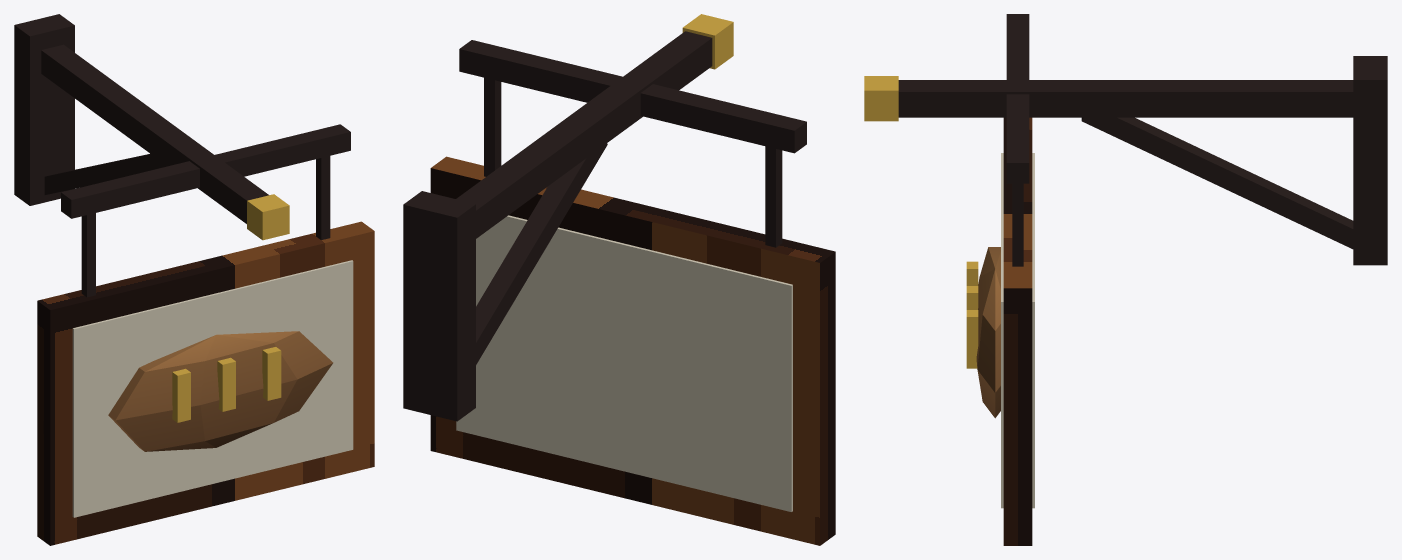
Rendered from hanging_sign_loaf.glb.
3 renders of one model, left to right at view 1: azimuth 30°, elevation 25°; view 2: azimuth 150°, elevation 25°; view 3: azimuth 270°, elevation 25°, orthographic. The views are drawn at different scales.
Visible parts, largest first — view 1: hanging_sign_loaf; view 2: hanging_sign_loaf; view 3: hanging_sign_loaf.
Boxes of the visible parts, x1,y1,x2,y2 form: hanging_sign_loaf: (14, 14, 374, 545); hanging_sign_loaf: (403, 14, 835, 545); hanging_sign_loaf: (864, 14, 1387, 545).
Size of the model in its own units: 0.72 by 0.76 by 0.92.
Materials: 2 (1 with a texture image).
